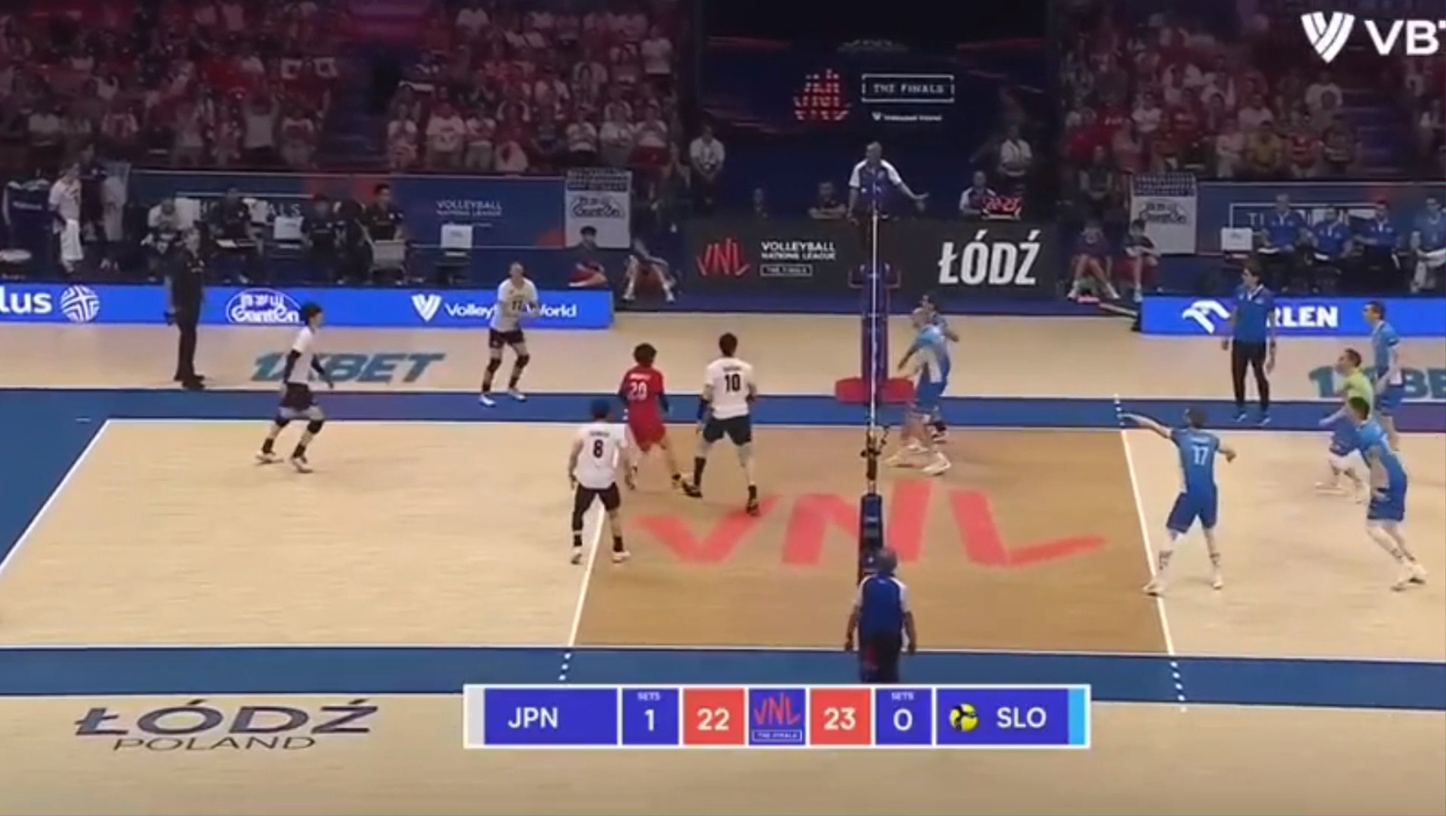player: (1120, 409, 1236, 597), (1346, 397, 1425, 589), (888, 306, 950, 474), (1318, 348, 1374, 498), (1364, 301, 1404, 442), (919, 293, 959, 342), (929, 411, 947, 440)
player 1: (682, 332, 759, 515), (257, 302, 333, 471), (618, 343, 690, 489), (569, 400, 632, 564), (478, 262, 539, 406)
referee: (847, 141, 927, 288), (845, 548, 917, 684), (1222, 265, 1275, 422), (162, 230, 205, 390)
